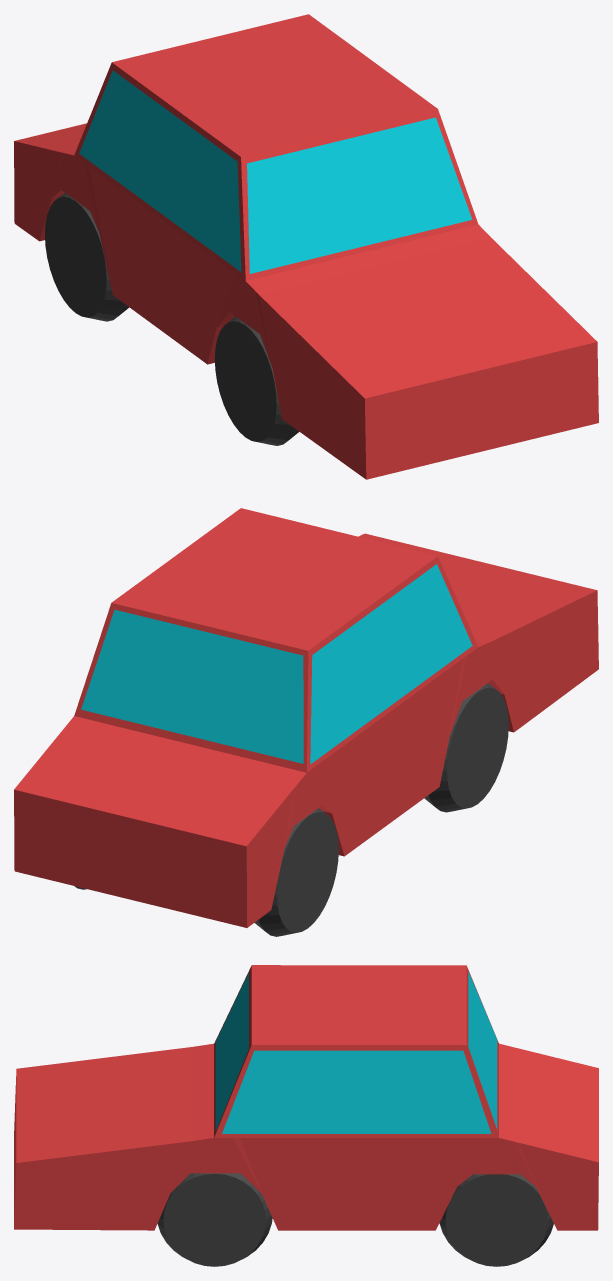
File: RedCar.fbx
3 renders of one model, top to bottom at view 1: azimuth 30°, elevation 25°; view 2: azimuth 150°, elevation 25°; view 3: azimuth 270°, elevation 25°, orthographic. The views are drawn at different scales.
Visible parts, largest first — view 1: Cube, Plane, Plane.003, Cylinder, Cylinder.001; view 2: Cube, Plane.001, Plane.003, Cylinder, Cylinder.001; view 3: Cube, Plane.002, Cylinder, Cylinder.001, Plane, Plane.001.
Part boxes in pixels (box(x1,y1,x2,y2)): Cube: box(14, 14, 598, 479); Plane: box(247, 117, 472, 273); Plane.003: box(79, 70, 241, 272); Cylinder: box(214, 316, 299, 445); Cylinder.001: box(45, 193, 129, 321); Cube: box(14, 508, 598, 927); Plane.001: box(81, 609, 303, 763); Plane.003: box(310, 564, 472, 764); Cylinder: box(424, 683, 508, 812); Cylinder.001: box(74, 808, 338, 936); Cube: box(14, 965, 598, 1230); Plane.002: box(222, 1050, 491, 1133); Cylinder: box(157, 1173, 272, 1266); Cylinder.001: box(439, 1174, 553, 1266); Plane: box(215, 972, 248, 1130); Plane.001: box(468, 971, 497, 1129).
Size of the model in its own units: 5534 by 6077 by 14490.
